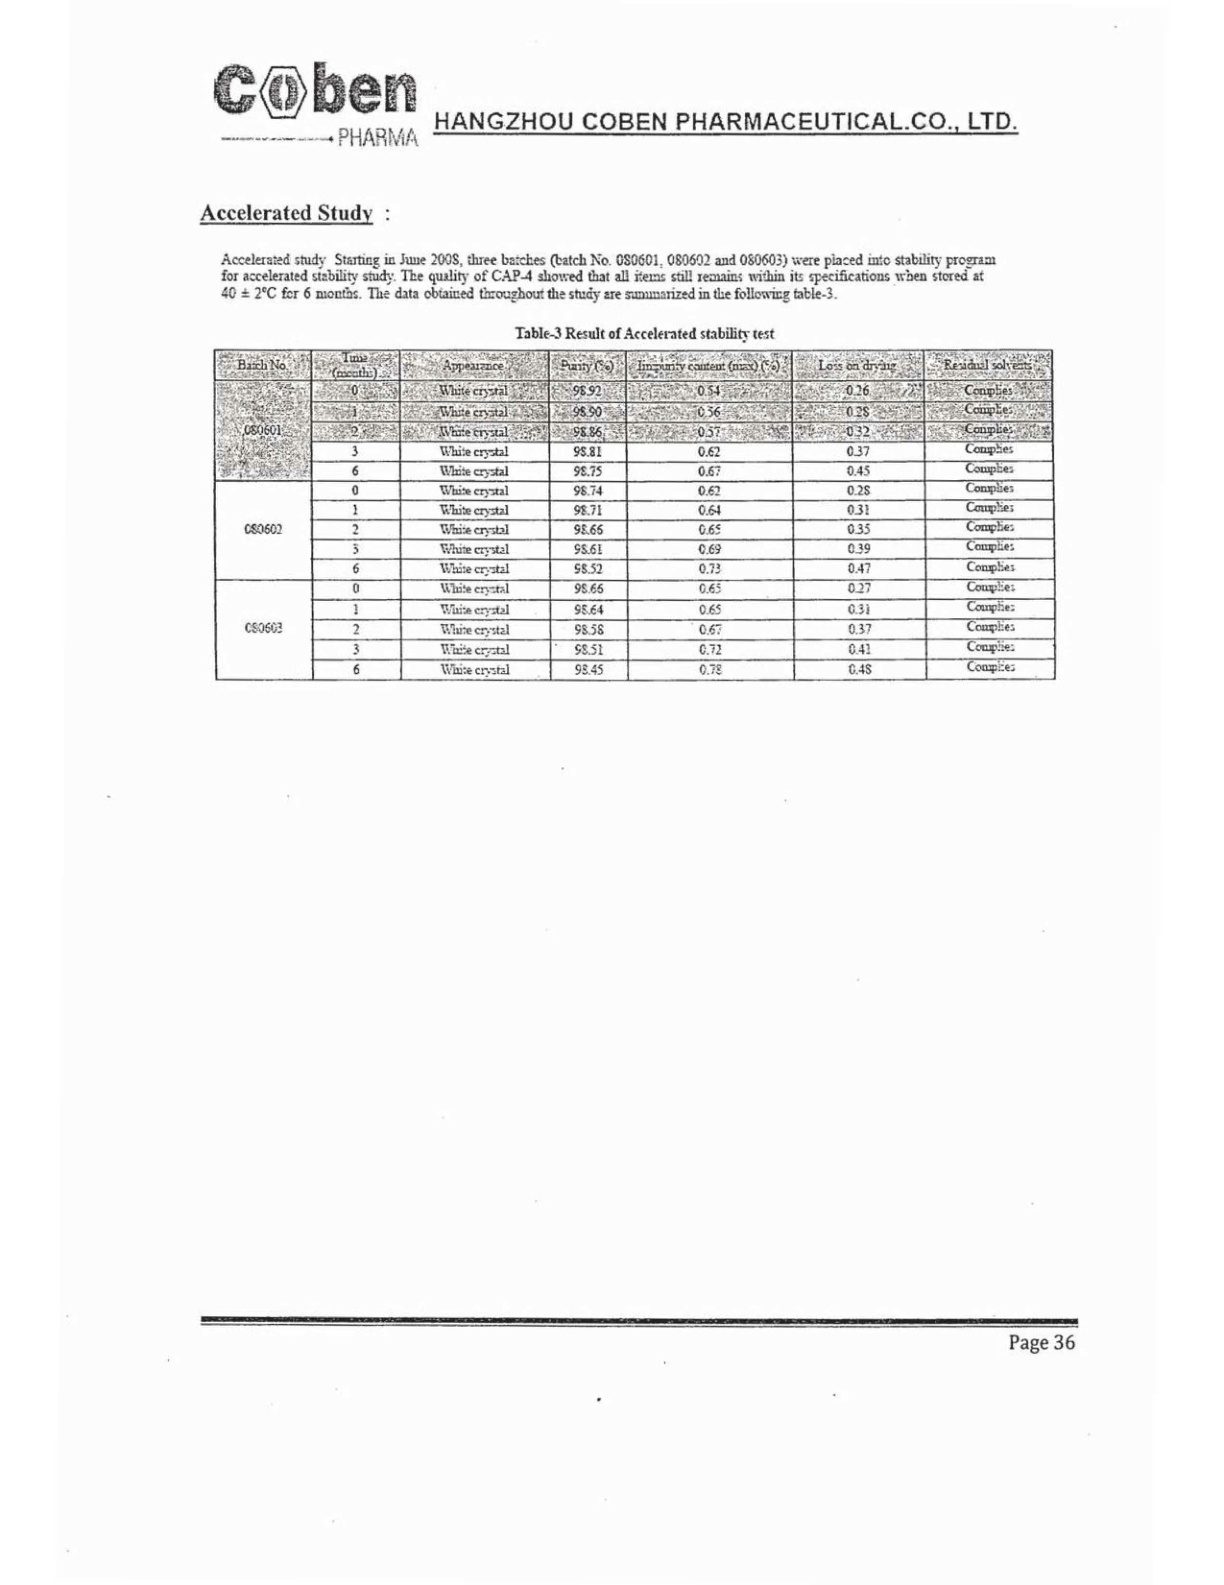merged_cells: (212, 348, 1058, 683)
